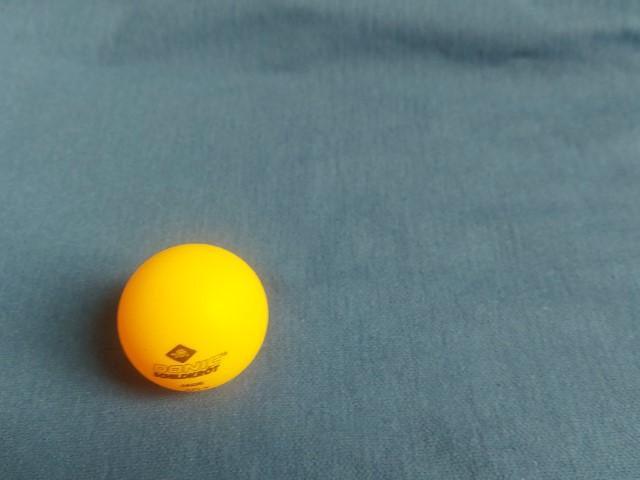oball: (112, 237, 270, 398)
